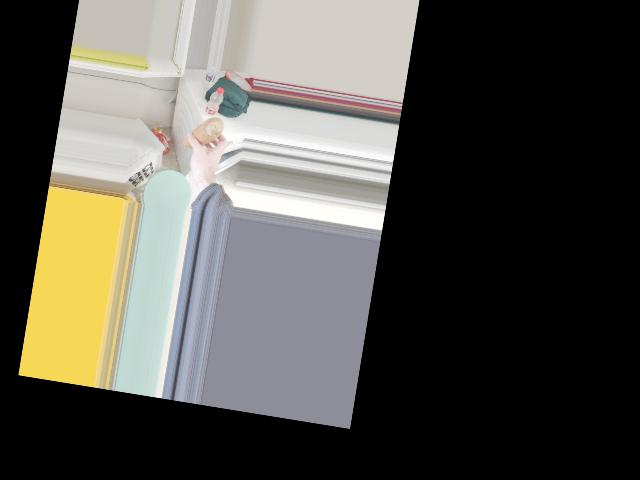sweet_potato: (179, 112, 228, 153)
